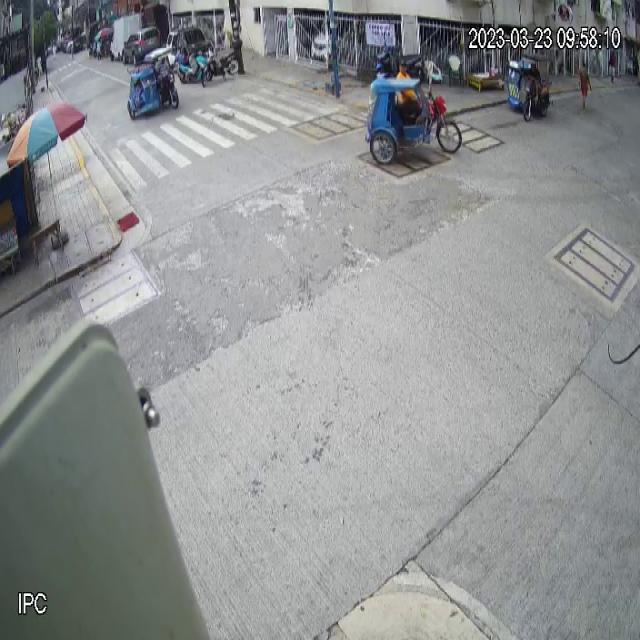Tricycle: (364, 52, 462, 167), (126, 47, 180, 120), (507, 52, 554, 122)
